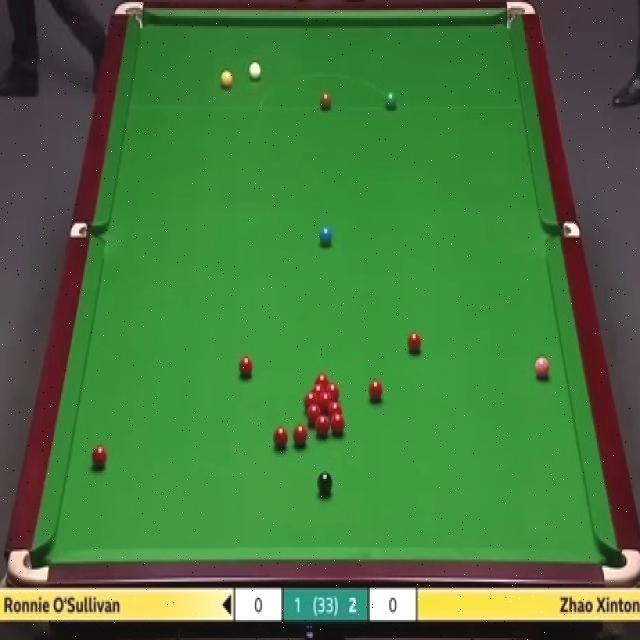black-ball: (317, 469, 333, 499)
blue-ball: (318, 226, 334, 247)
brown-ball: (319, 90, 332, 111)
green-ball: (384, 91, 398, 110)
pink-ball: (535, 354, 550, 380)
red-ball: (90, 444, 108, 471), (236, 353, 254, 380), (292, 422, 309, 450), (272, 425, 288, 449), (330, 413, 346, 437), (368, 378, 383, 402), (408, 330, 422, 355), (306, 403, 321, 425), (316, 416, 330, 438), (325, 382, 340, 401), (318, 391, 332, 409), (304, 391, 318, 408), (328, 403, 343, 415), (310, 384, 326, 394), (315, 374, 330, 384)
white-ball: (249, 62, 262, 84)
yellow-ball: (221, 69, 234, 90)
